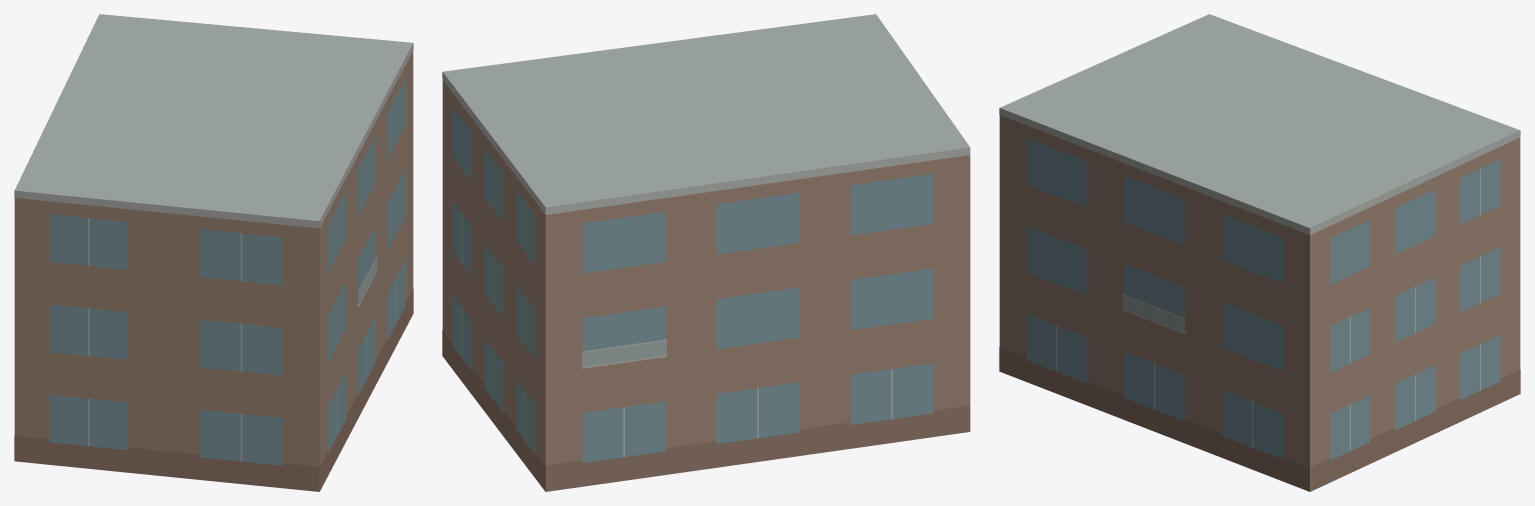
File: survey-upis-33000265.glb
3 views of the same model, side by side, from view 1: azimuth 30°, elevation 25°; view 2: azimuth 150°, elevation 25°; view 3: azimuth 270°, elevation 25° (orthographic). The views are drawn at different scales.
Parts seen in each view (by area): view 1: survey-upis-33000265.tmp; view 2: survey-upis-33000265.tmp; view 3: survey-upis-33000265.tmp.
Part boxes in pixels (x1,y1,x2,y2): survey-upis-33000265.tmp: [14, 14, 413, 491]; survey-upis-33000265.tmp: [442, 14, 970, 491]; survey-upis-33000265.tmp: [999, 14, 1520, 491].
Bounding box in the file's own units: 15.95 × 9.15 × 16.39.
